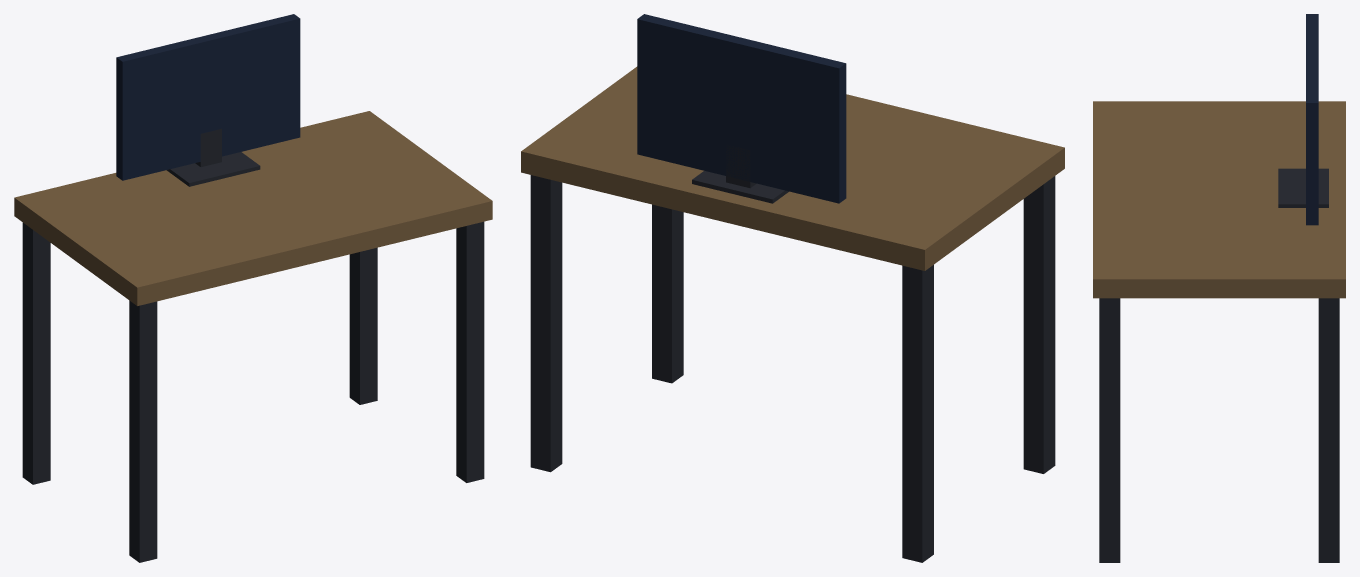
The model's file is furn_desk.glb.
3 views of the same model, side by side, from view 1: azimuth 30°, elevation 25°; view 2: azimuth 150°, elevation 25°; view 3: azimuth 270°, elevation 25° (orthographic). The views are drawn at different scales.
Visible parts, largest first — view 1: furn.desk_bench; view 2: furn.desk_bench; view 3: furn.desk_bench.
Part boxes in pixels (x1,y1,x2,y2): furn.desk_bench: (14,14,492,562); furn.desk_bench: (521,14,1064,562); furn.desk_bench: (1093,14,1345,562).
Bounding box in the file's own units: 1 × 1.1 × 0.6.
